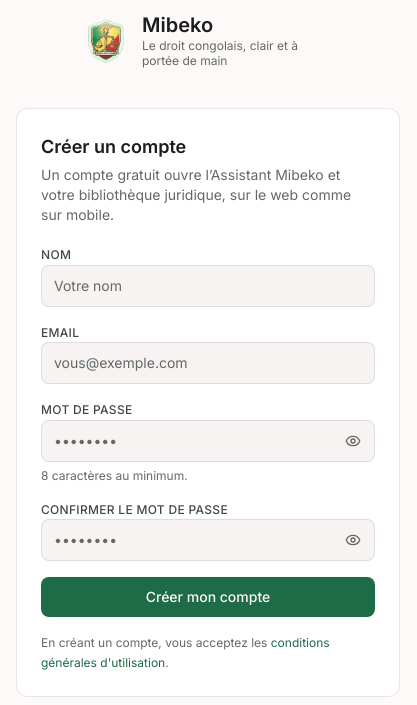
Test case: RegisterPage › refuse deux mots de passe différents sans appeler le serveur
Type "Awa" into the field with placeholder "Votre nom" at (208, 286), box [41,264,375,306]
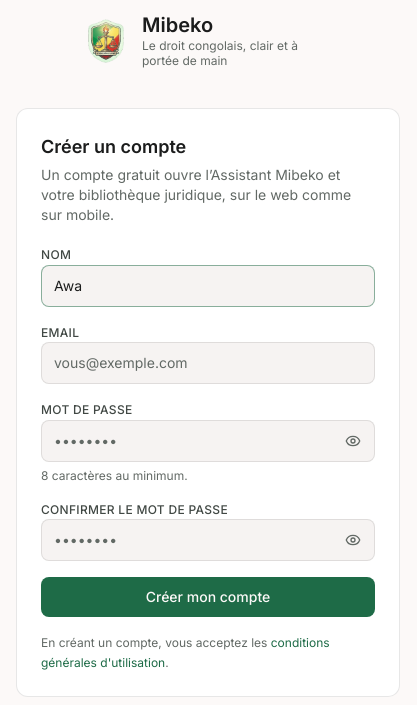
Type "awa@exemple.com" into the field with placeholder "vous@exemple.com" at (208, 363), box [41,342,375,384]
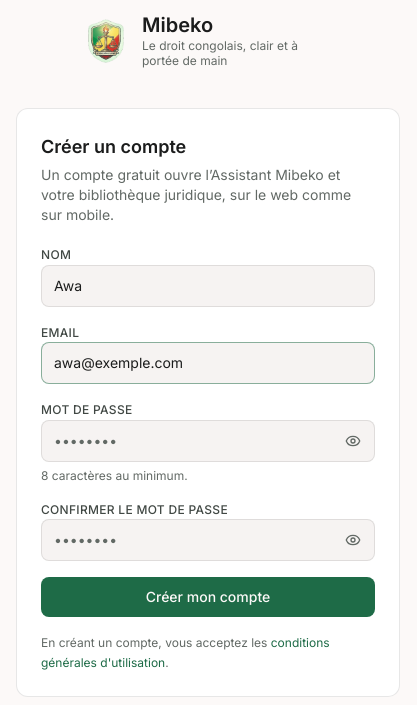
Type "motdepasse1" into the 1st password field with placeholder "••••••••" at (208, 440), box [41,420,375,462]
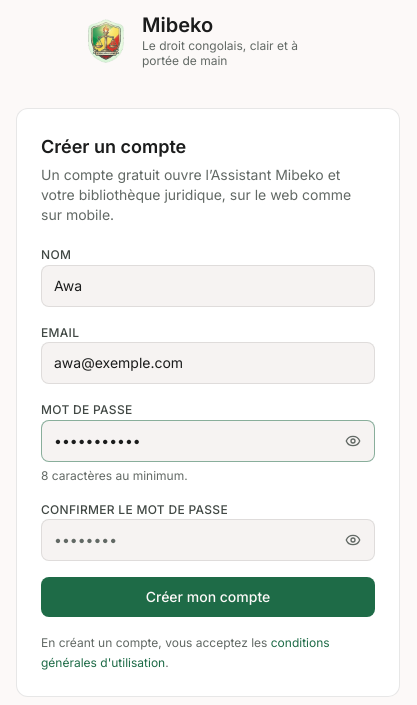
Type "motdepasse2" into the password field with placeholder "••••••••" at (208, 540), box [41,519,375,561]
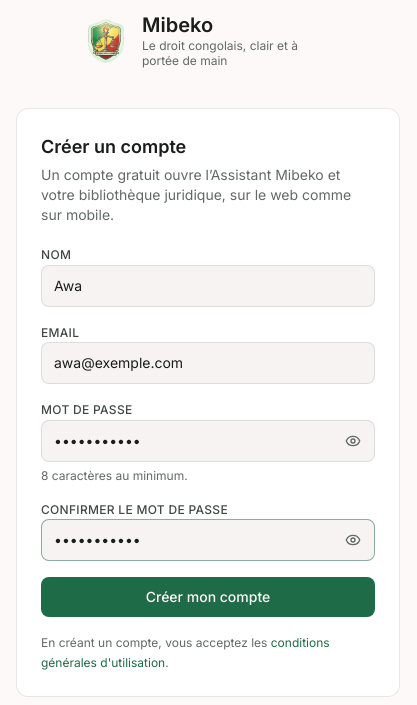
Click the button "Créer mon compte" at (208, 597), box [41,577,375,617]
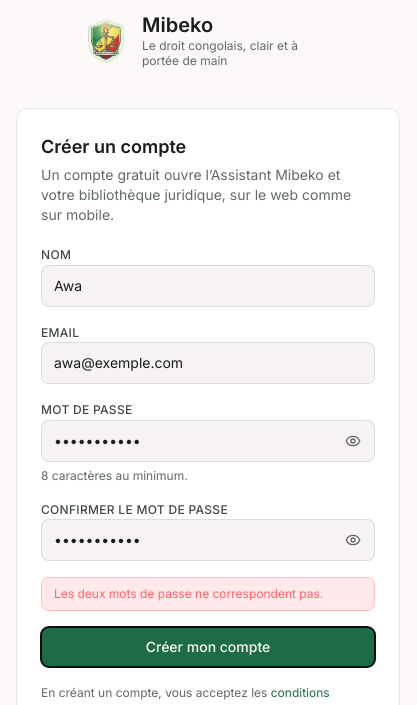
Expected: the message reads "Les deux mots de passe ne correspondent pas.", [54,586,323,601]
